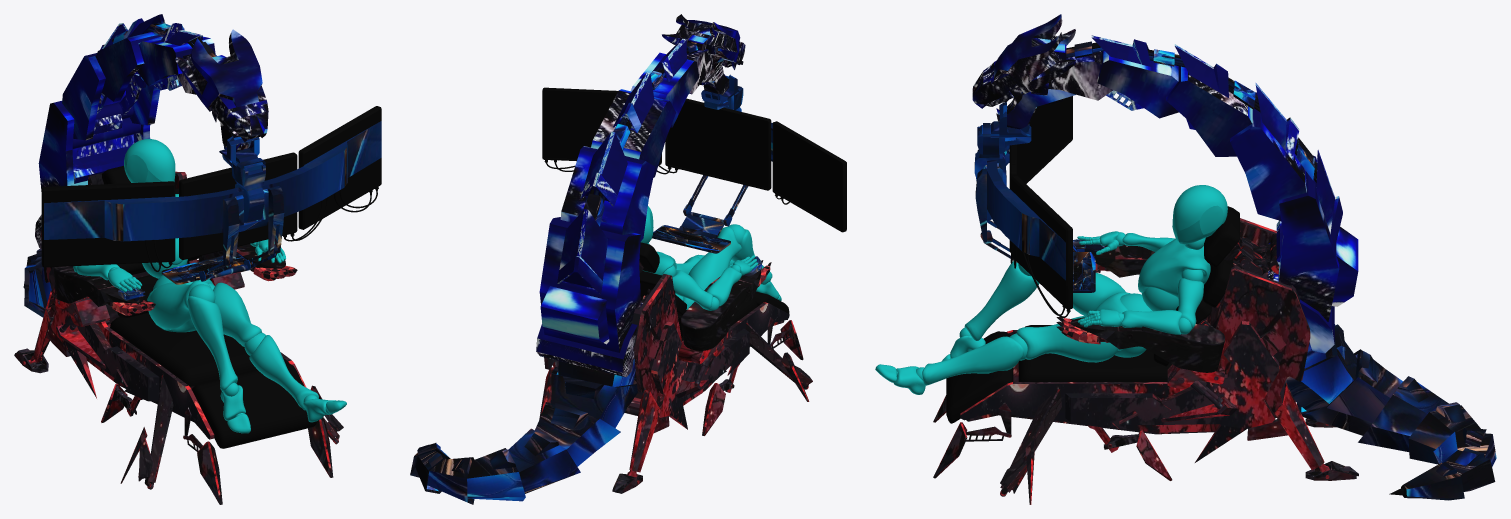
The model's file is dragon10.glb.
3 renders of one model, left to right at view 1: azimuth 30°, elevation 25°; view 2: azimuth 150°, elevation 25°; view 3: azimuth 270°, elevation 25°, orthographic. The views are drawn at different scales.
Parts seen in each view (by area): view 1: a1UVs3, a2UVs1, JUST_MAT_xBot_, a1UVs1, a1UVs4, mainHead, monitor_right, monitorMid, monitor_left, mech, tail_2_1, a2UVs1_3 (+1 smaller); view 2: a1UVs1, a1UVs3, tail_2_1, monitorMid, monitor_right, JUST_MAT_xBot_, monitor_left, mainHead, a2UVs1, a1UVs4; view 3: a1UVs3, a1UVs1, JUST_MAT_xBot_, tail_2_1, a1UVs4, mainHead, a2UVs1, monitor_right, monitor_left, a2UVs1_3.
Boxes of the visible parts, left/top/right/bottom form: a1UVs3: left=14, top=171, right=343, bottom=504; a2UVs1: left=44, top=121, right=381, bottom=300; JUST_MAT_xBot_: left=73, top=139, right=346, bottom=433; a1UVs1: left=35, top=14, right=216, bottom=248; a1UVs4: left=102, top=165, right=378, bottom=448; mainHead: left=175, top=29, right=268, bottom=151; monitor_right: left=41, top=181, right=175, bottom=267; monitorMid: left=179, top=152, right=297, bottom=259; monitor_left: left=298, top=106, right=381, bottom=229; mech: left=72, top=71, right=181, bottom=148; tail_2_1: left=23, top=22, right=243, bottom=317; a2UVs1_3: left=232, top=162, right=265, bottom=222; a1UVs1: left=536, top=38, right=713, bottom=377; a1UVs3: left=539, top=260, right=812, bottom=493; tail_2_1: left=410, top=42, right=700, bottom=504; monitorMid: left=665, top=98, right=771, bottom=190; monitor_right: left=772, top=121, right=846, bottom=232; JUST_MAT_xBot_: left=641, top=206, right=781, bottom=310; monitor_left: left=542, top=87, right=661, bottom=164; mainHead: left=662, top=14, right=745, bottom=94; a2UVs1: left=652, top=123, right=772, bottom=275; a1UVs4: left=544, top=160, right=789, bottom=340; a1UVs3: left=933, top=218, right=1358, bottom=504; a1UVs1: left=1031, top=35, right=1358, bottom=353; JUST_MAT_xBot_: left=875, top=185, right=1227, bottom=394; tail_2_1: left=1011, top=41, right=1496, bottom=500; a1UVs4: left=946, top=206, right=1239, bottom=423; mainHead: left=972, top=14, right=1075, bottom=129; a2UVs1: left=975, top=145, right=1104, bottom=292; monitor_right: left=1016, top=96, right=1072, bottom=183; monitor_left: left=1011, top=175, right=1072, bottom=309; a2UVs1_3: left=974, top=126, right=1006, bottom=185.
Bounding box in the file's own units: 17.77 × 20.7 × 27.25.
Materials: 6 (4 with a texture image).
